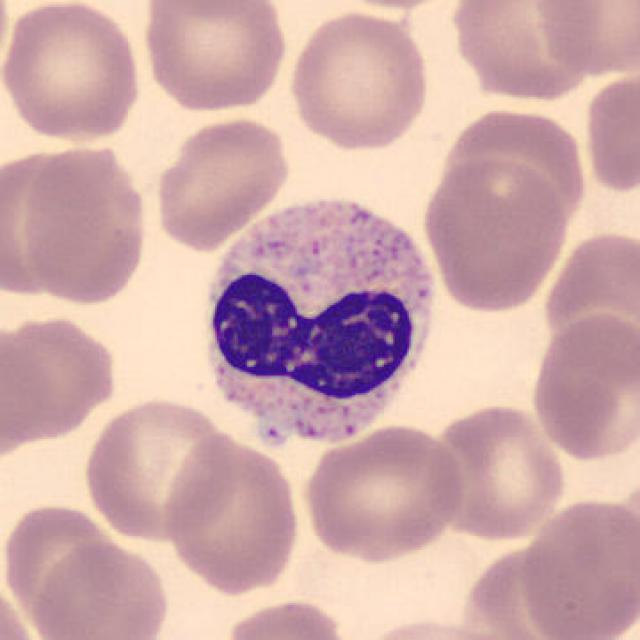Neutrophil: (190, 185, 446, 464)
RBC: (78, 393, 240, 545), (160, 430, 306, 596), (298, 422, 468, 564), (16, 139, 155, 309), (420, 157, 570, 314), (438, 107, 591, 252), (284, 7, 434, 153), (0, 0, 146, 146), (428, 400, 569, 543), (151, 113, 293, 252), (516, 492, 636, 640), (526, 308, 638, 466), (137, 1, 290, 114), (2, 310, 121, 446), (537, 224, 638, 383), (26, 537, 174, 640), (457, 0, 603, 103), (2, 501, 122, 624), (462, 548, 622, 640), (530, 0, 640, 79), (580, 69, 638, 197), (218, 596, 356, 640), (350, 613, 522, 640), (0, 575, 44, 640), (314, 0, 468, 14)
